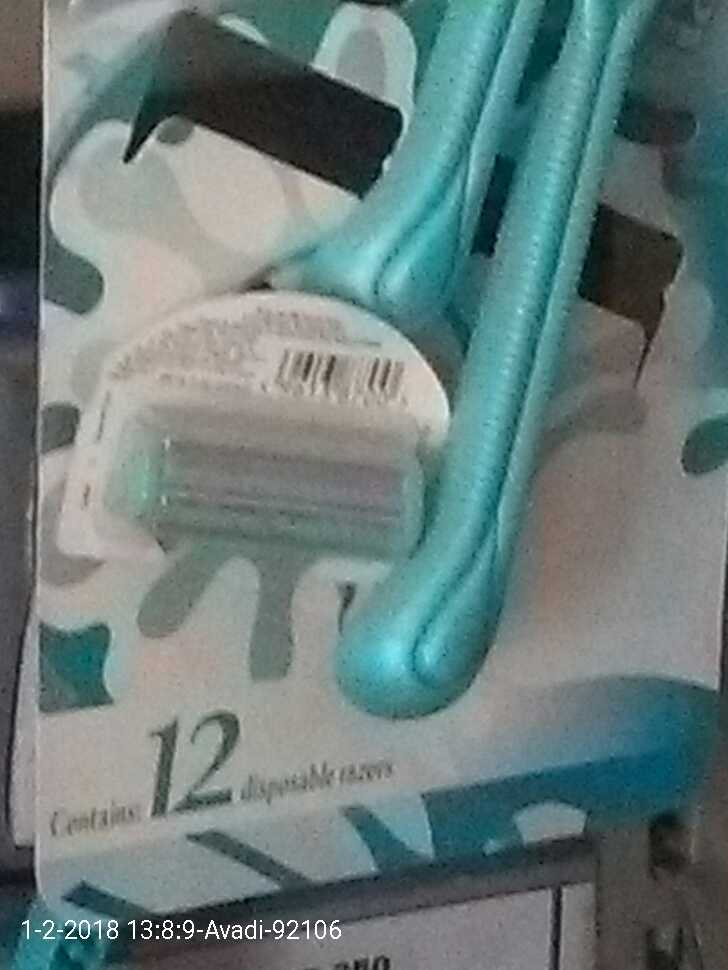reject: (119, 177, 533, 847)
